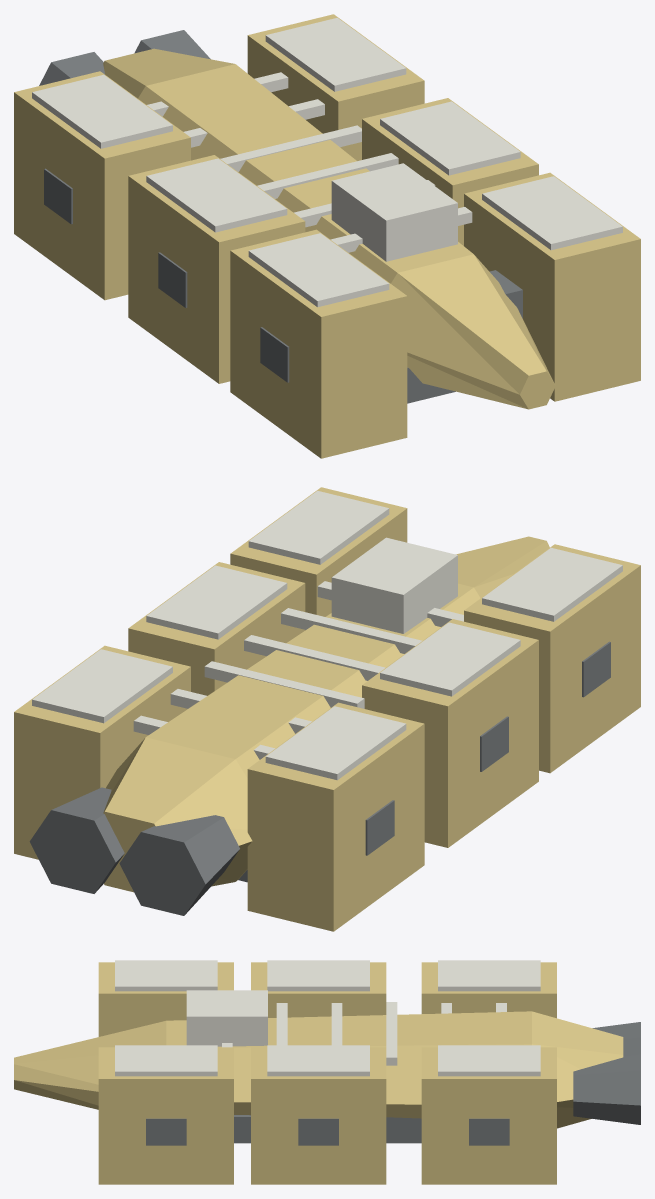
3 views of the same model, one above another, from view 1: azimuth 30°, elevation 25°; view 2: azimuth 150°, elevation 25°; view 3: azimuth 270°, elevation 25° (orthographic). The views are drawn at different scales.
Size of the model in its own units: 3.74 by 1.82 by 8.43.
